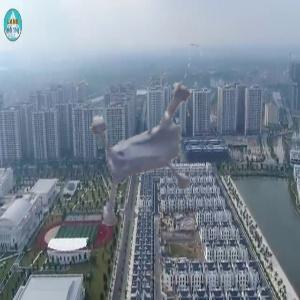drone: (61, 43, 236, 218)
